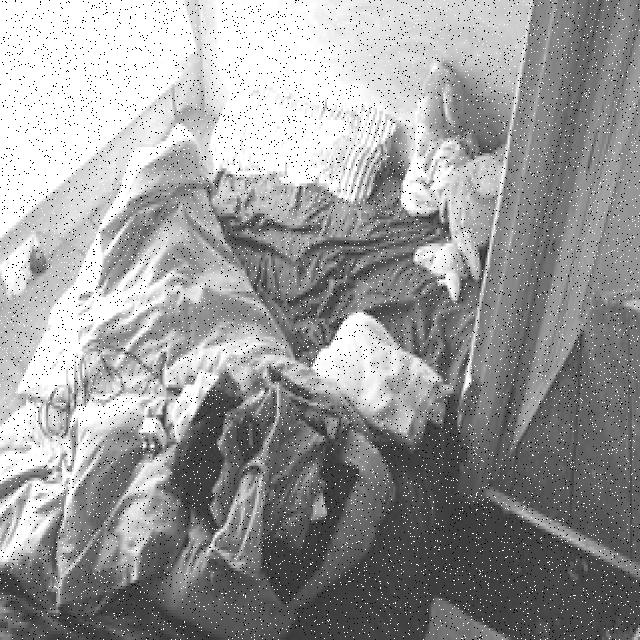bed: (17, 56, 521, 591)
